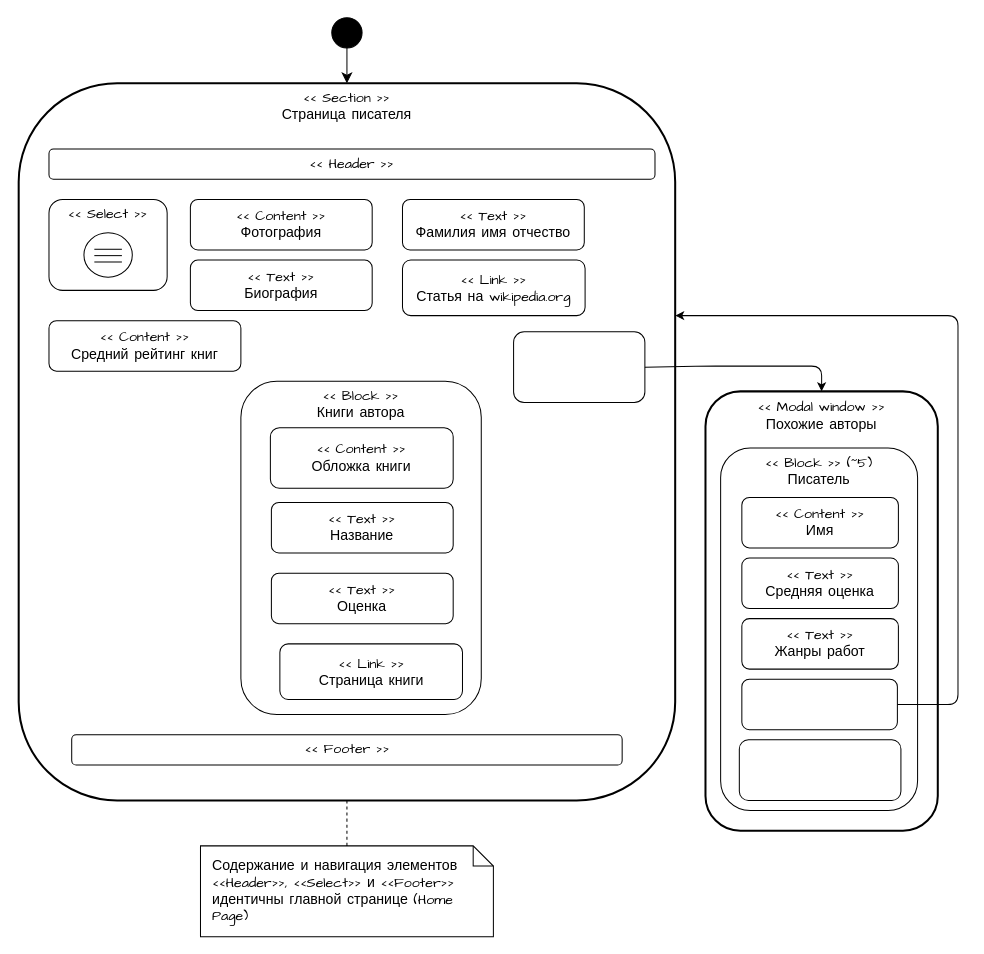
The diagram is 984 pixels wide and 954 high, and some of its shapes have lost their labels. The shapes that lost their labels are listed below. From the top down, each one's centre as x and y in pixels, then its label:
At pixel 579 366: "<< Button >> Похожие авторы".
At pixel 819 704: "<< Button >> Отмена".
At pixel 819 769: "<< Link >> Страница писателя".
